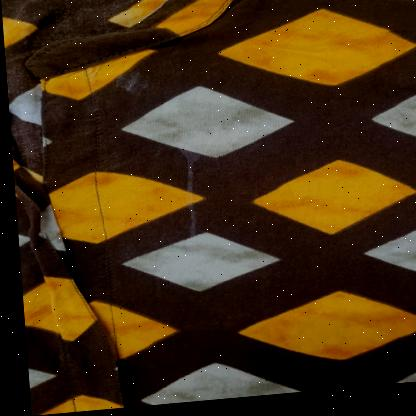spot: (114, 70, 148, 102), (174, 130, 212, 157), (176, 221, 199, 247), (177, 199, 201, 223), (179, 176, 199, 198), (177, 159, 196, 177)
